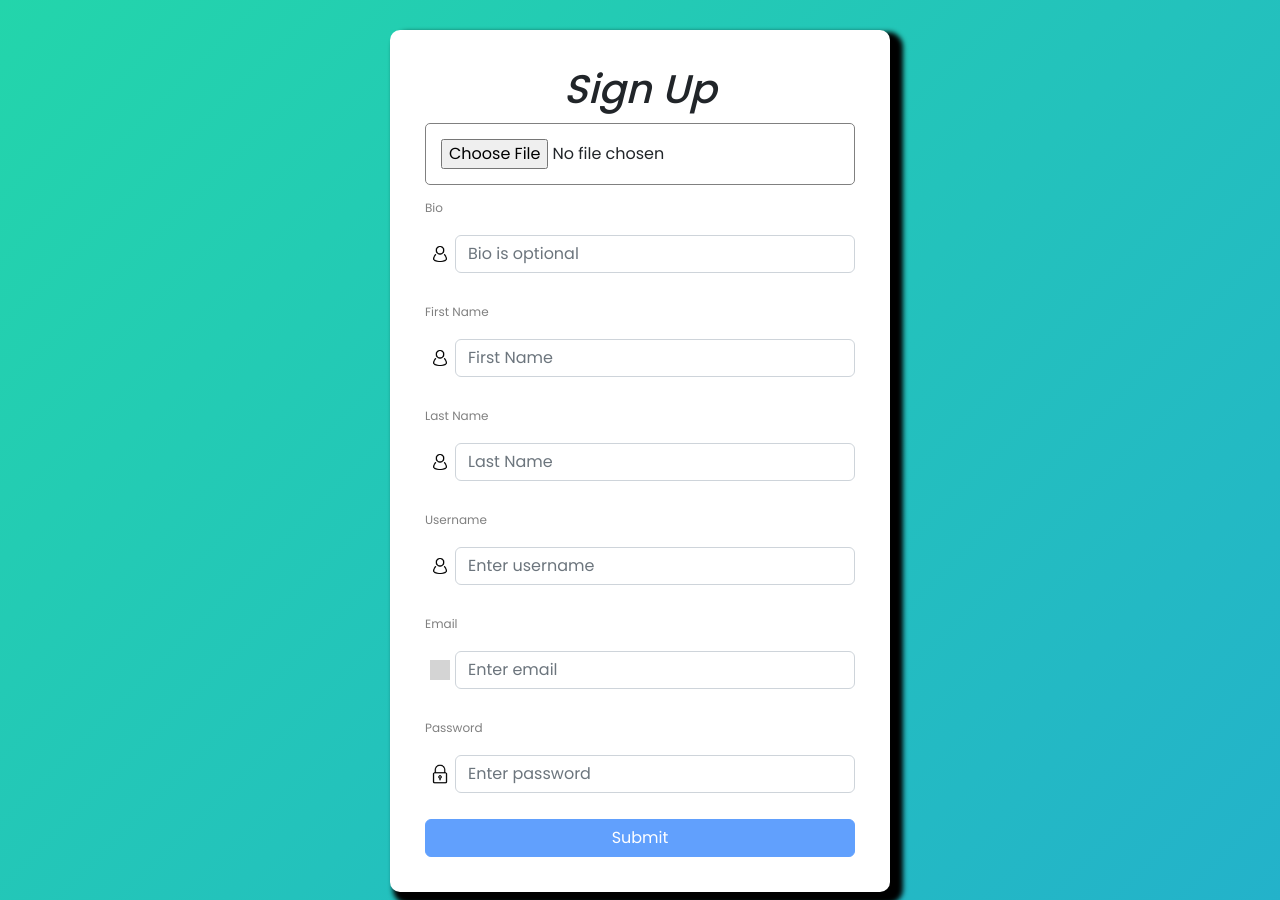
Test: The signup component › should display error messages when only some of input fields are filled
Type "abc" into the field with placeholder "Bio is optional" at (655, 254), box 455,235 -> 855,273
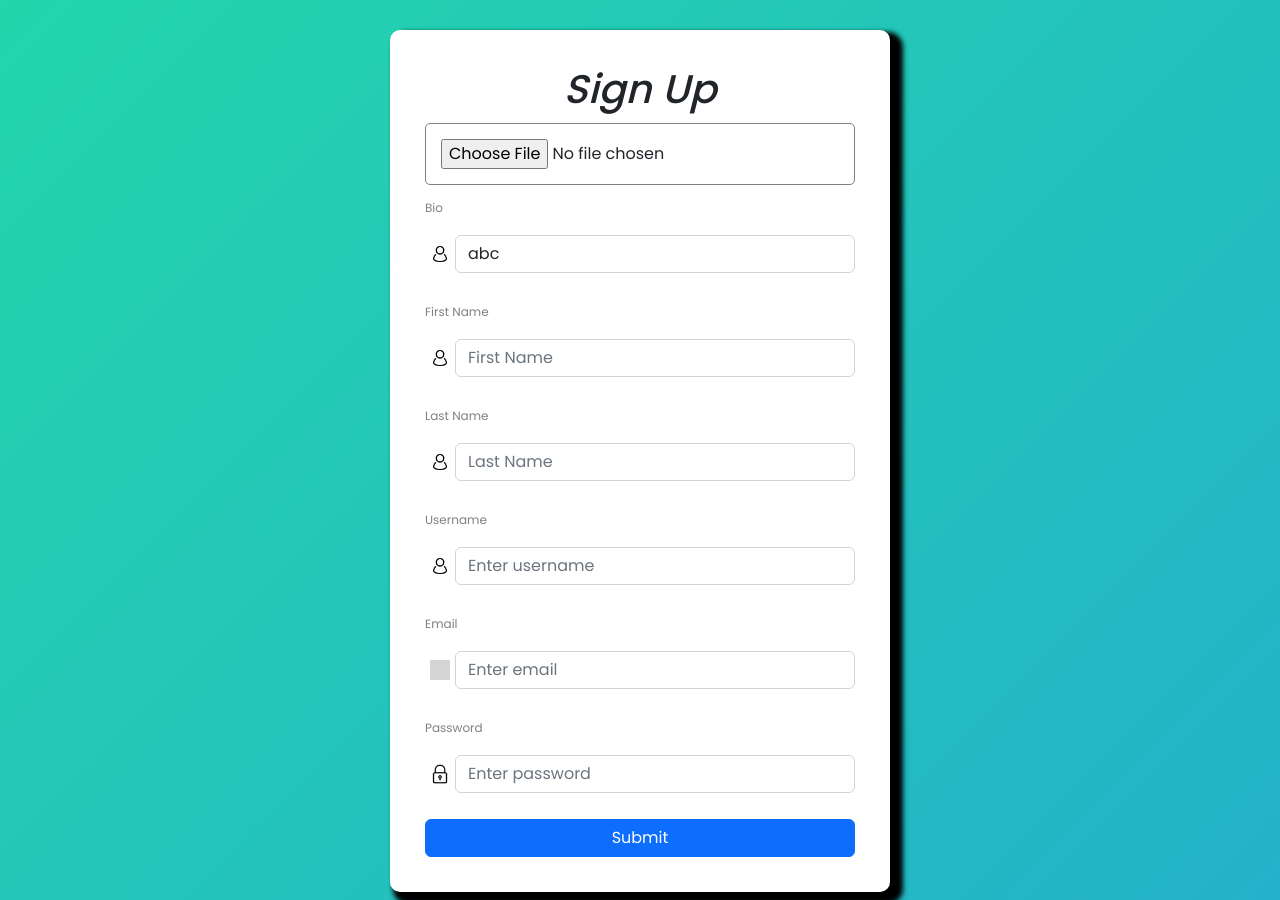
Click the button "Submit" at (640, 838), box 425,819 -> 855,857
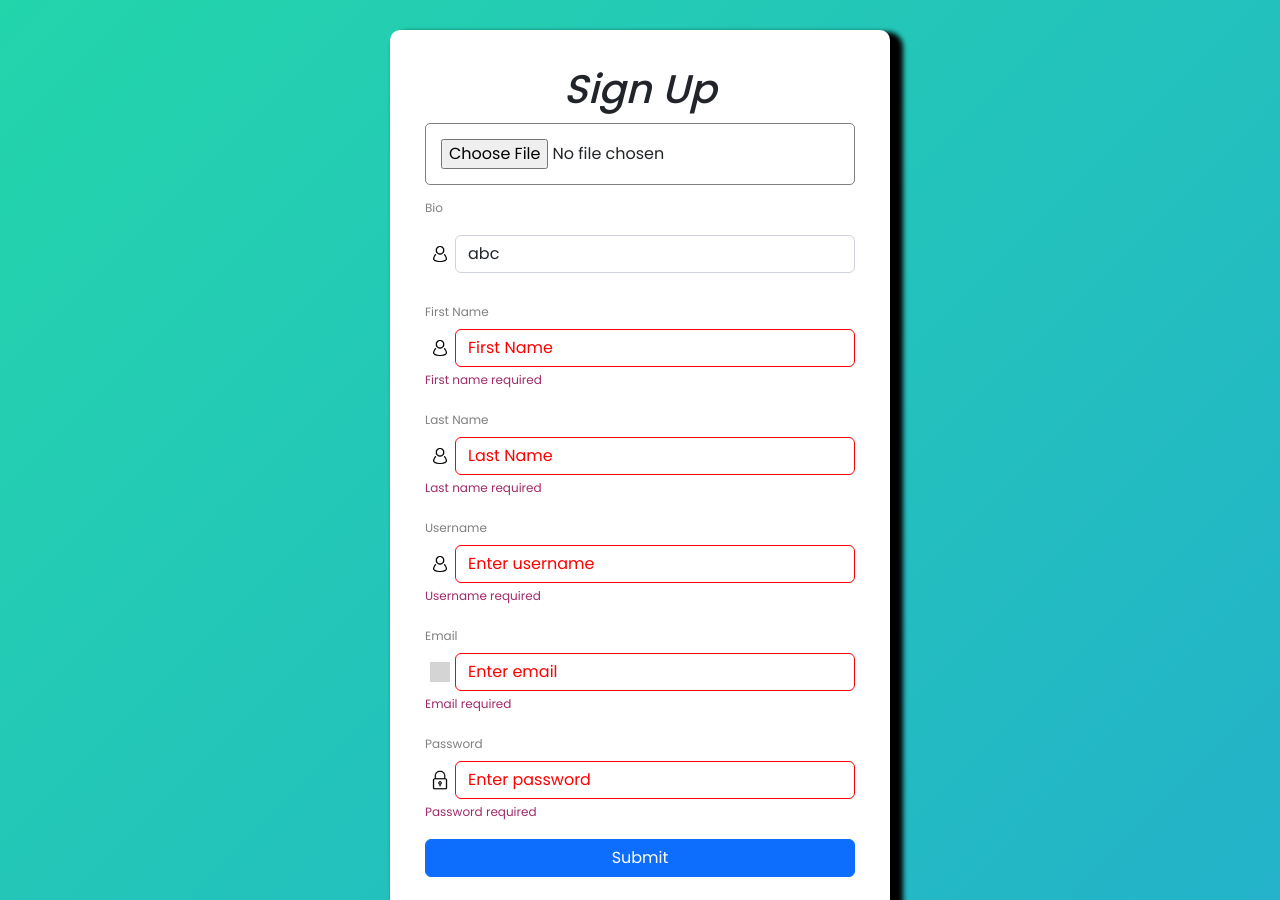
Expected: the text "First name required" is shown, 425,371 -> 542,388
Expected: the text "Last name required" is shown, 425,479 -> 542,496
Expected: the text "Username required" is shown, 425,587 -> 541,604
